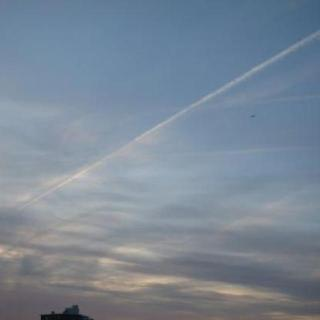Contrails: (11, 0, 320, 307)
